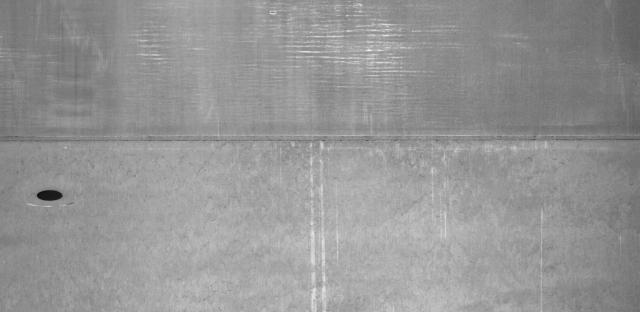punching_hole: (33, 185, 65, 203)
welding_line: (3, 123, 637, 153)
